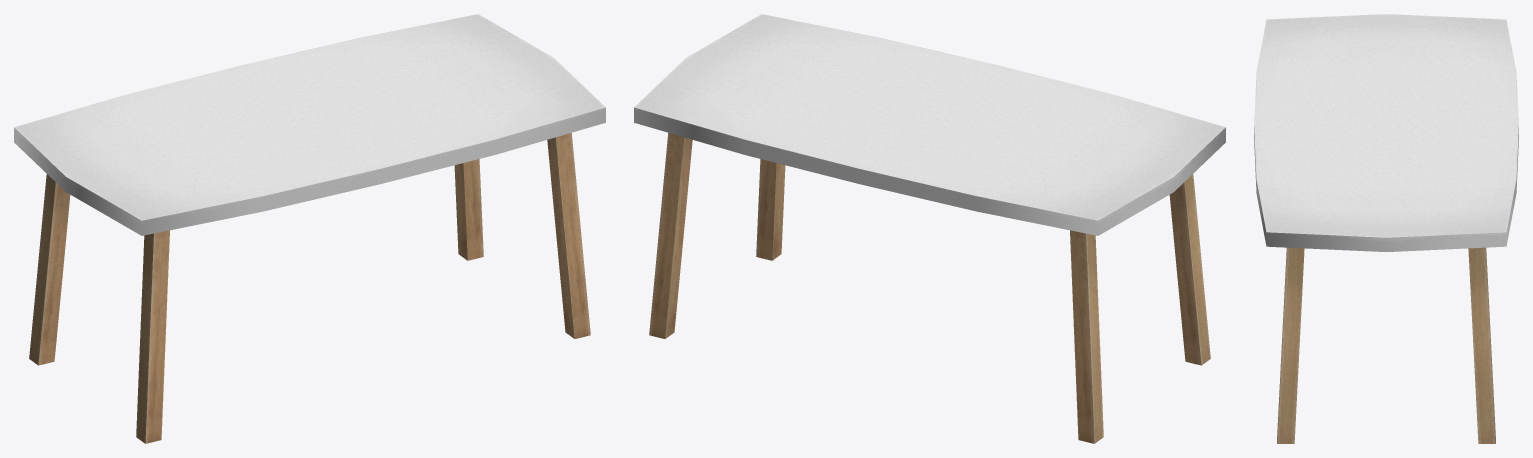
Rendered from CoffeeTable.glb.
3 renders of one model, left to right at view 1: azimuth 30°, elevation 25°; view 2: azimuth 150°, elevation 25°; view 3: azimuth 270°, elevation 25°, orthographic. The views are drawn at different scales.
Visible parts, largest first — view 1: table; view 2: table; view 3: table.
Boxes of the visible parts, <box> form: table: <box>14,14,605,443</box>; table: <box>634,14,1225,443</box>; table: <box>1254,14,1518,443</box>.
Bounding box in the file's own units: 1 × 0.45 × 0.5.
1 material, 1 textured.
